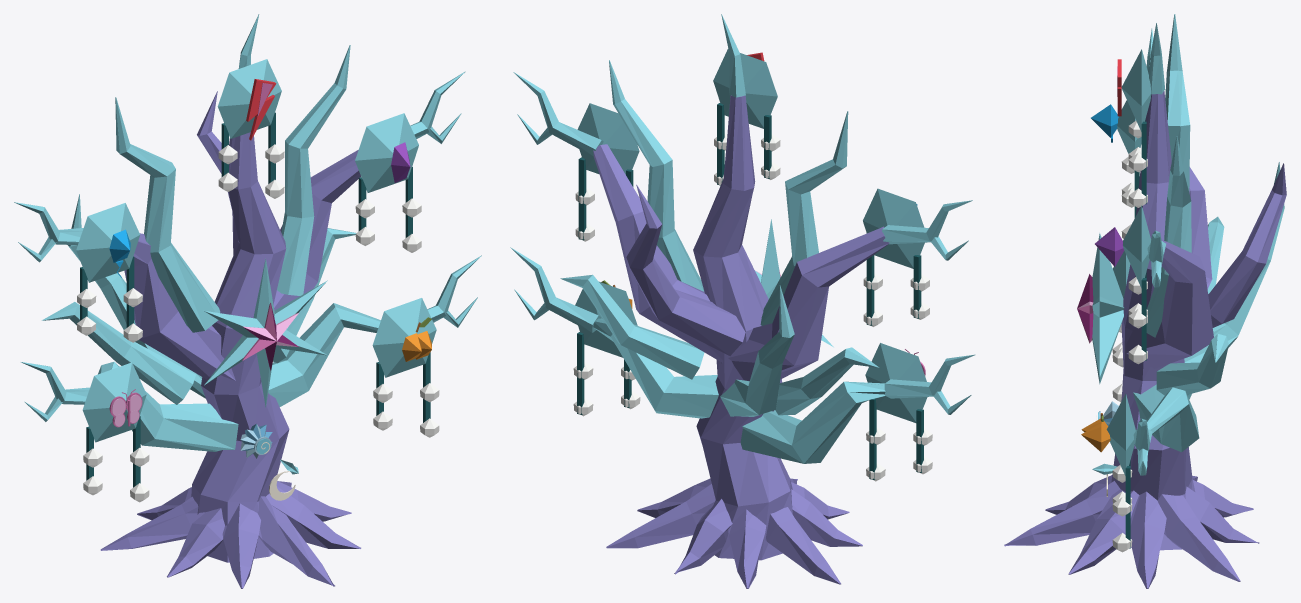
The model's file is building.glb.
3 renders of one model, left to right at view 1: azimuth 30°, elevation 25°; view 2: azimuth 150°, elevation 25°; view 3: azimuth 270°, elevation 25°, orthographic.
Visible parts, largest first — view 1: Building_Harmony_CrystalTrunkAndRoots, Building_Harmony_SixElements, Building_Harmony_HangingCrystals, Building_Harmony_BranchTips; view 2: Building_Harmony_CrystalTrunkAndRoots, Building_Harmony_SixElements, Building_Harmony_HangingCrystals, Building_Harmony_BranchTips; view 3: Building_Harmony_CrystalTrunkAndRoots, Building_Harmony_SixElements, Building_Harmony_HangingCrystals, Building_Harmony_BranchTips.
Part boxes in pixels (x1=…): Building_Harmony_CrystalTrunkAndRoots: x1=42, y1=45, x2=380, y2=588; Building_Harmony_SixElements: x1=76, y1=59, x2=436, y2=500; Building_Harmony_HangingCrystals: x1=77, y1=112, x2=439, y2=502; Building_Harmony_BranchTips: x1=14, y1=14, x2=481, y2=421; Building_Harmony_CrystalTrunkAndRoots: x1=560, y1=60, x2=889, y2=588; Building_Harmony_SixElements: x1=575, y1=49, x2=927, y2=422; Building_Harmony_HangingCrystals: x1=573, y1=103, x2=932, y2=481; Building_Harmony_BranchTips: x1=510, y1=14, x2=975, y2=414; Building_Harmony_CrystalTrunkAndRoots: x1=1004, y1=14, x2=1286, y2=588; Building_Harmony_SixElements: x1=1077, y1=49, x2=1151, y2=496; Building_Harmony_HangingCrystals: x1=1112, y1=118, x2=1147, y2=552; Building_Harmony_BranchTips: x1=1133, y1=23, x2=1165, y2=475.
Bounding box in the file's own units: 1.45 × 1.55 × 0.7589.
